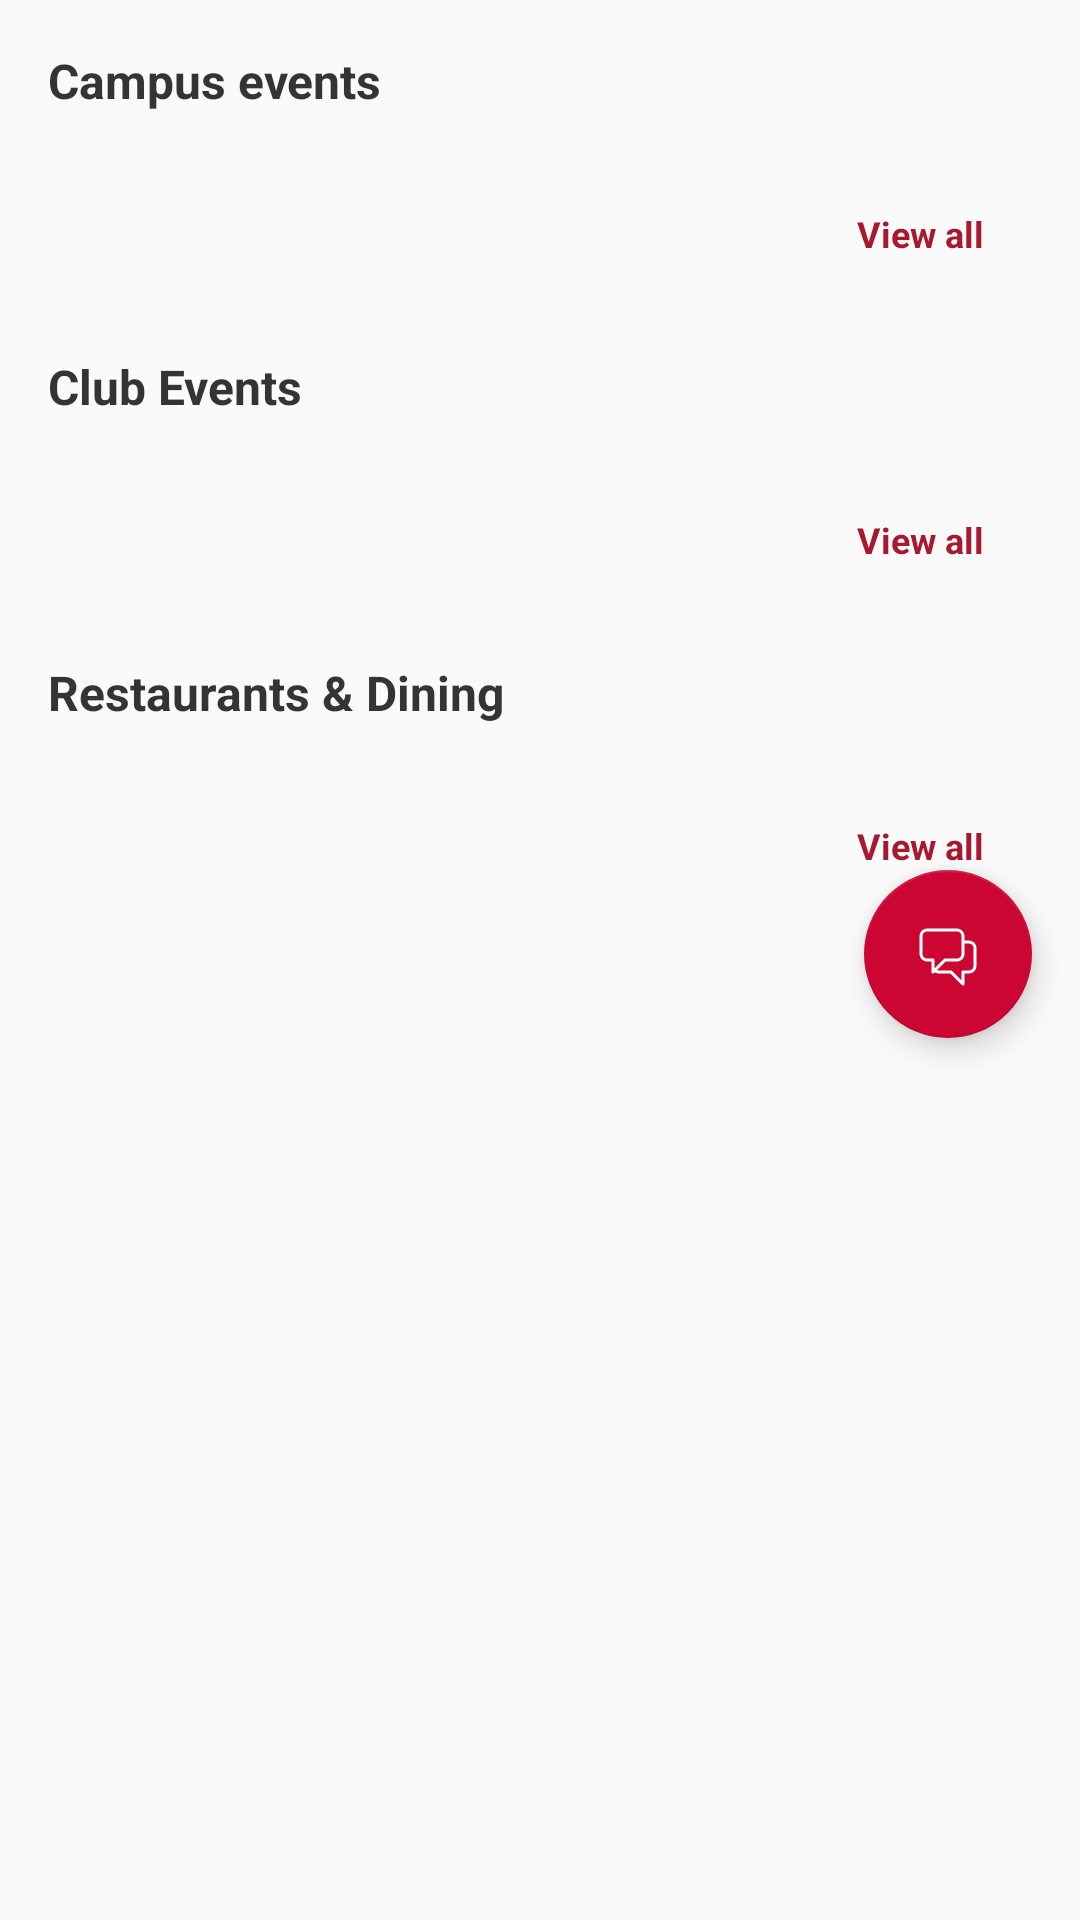

Named icons in this screenshot (1080px×1920px) and their centers, [x,y]:
chat: [948,954]
